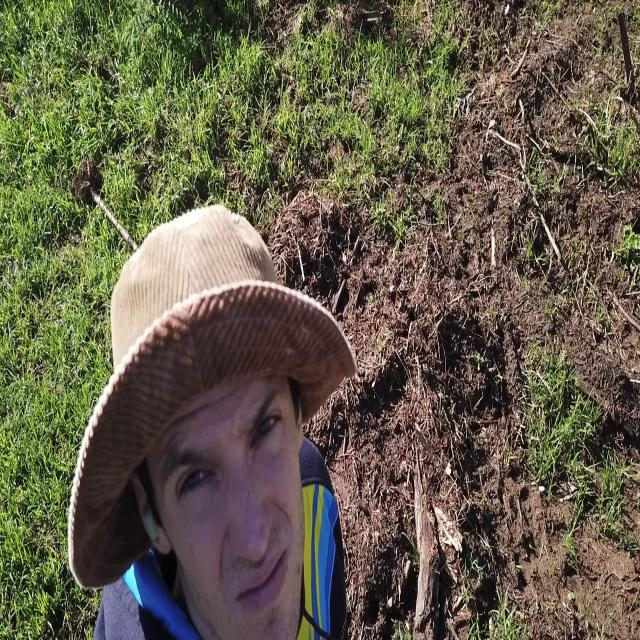Mysore-Thorn-Weed: (120, 0, 198, 63)
